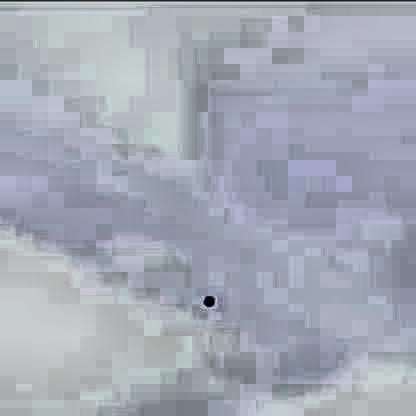golfball: (201, 289, 212, 302)
